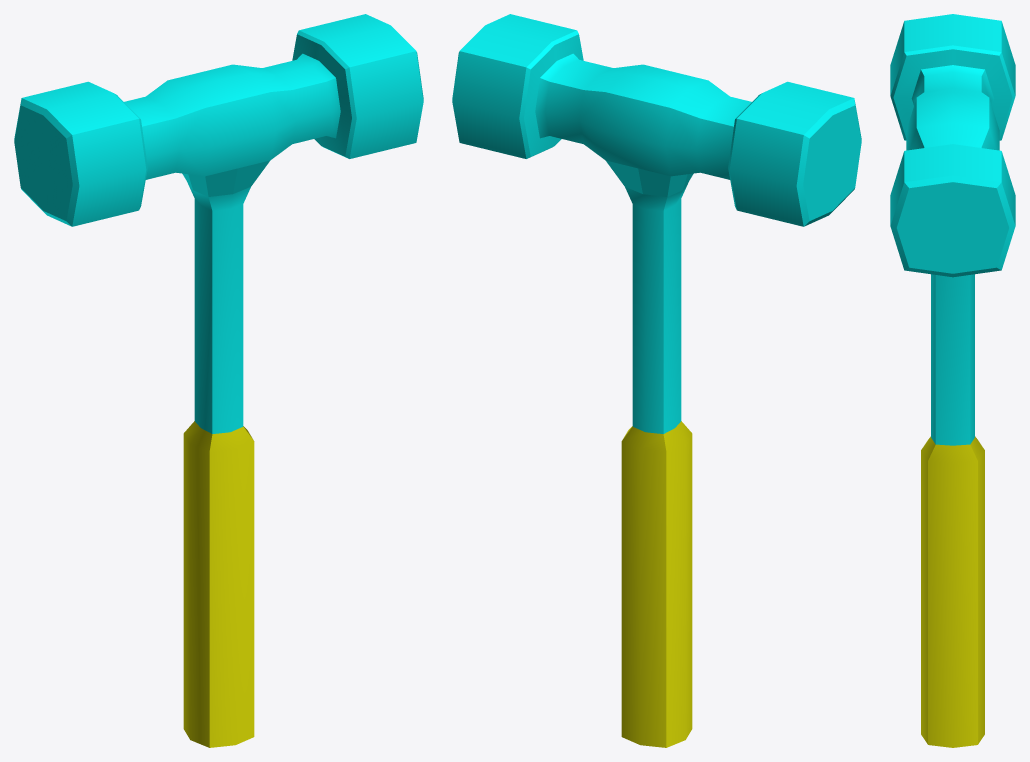
The model's file is texture_hammer.obj.
3 views of the same model, side by side, from view 1: azimuth 30°, elevation 25°; view 2: azimuth 150°, elevation 25°; view 3: azimuth 270°, elevation 25° (orthographic). The views are drawn at different scales.
Visible parts, largest first — view 1: HammerMesh; view 2: HammerMesh; view 3: HammerMesh.
Part boxes in pixels (x1=…): HammerMesh: x1=14, y1=14, x2=423, y2=747; HammerMesh: x1=452, y1=14, x2=861, y2=747; HammerMesh: x1=890, y1=14, x2=1015, y2=747.
Size of the model in its own units: 9.05 by 16.41 by 2.91.
